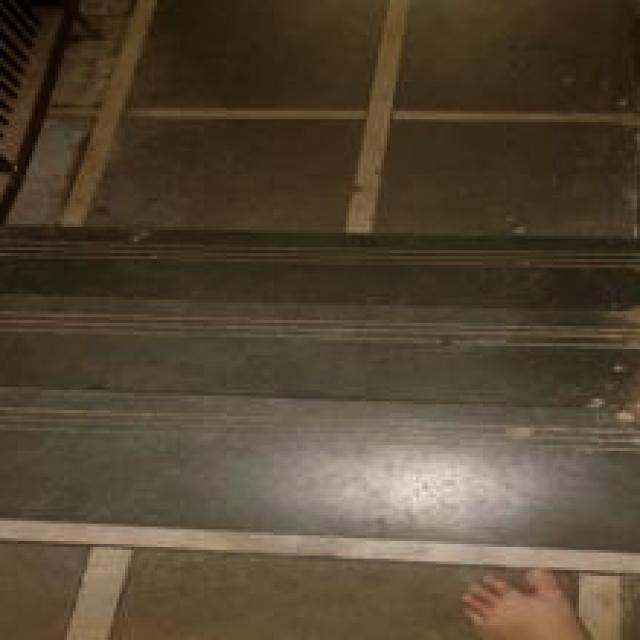downstair: (152, 213, 525, 458)
